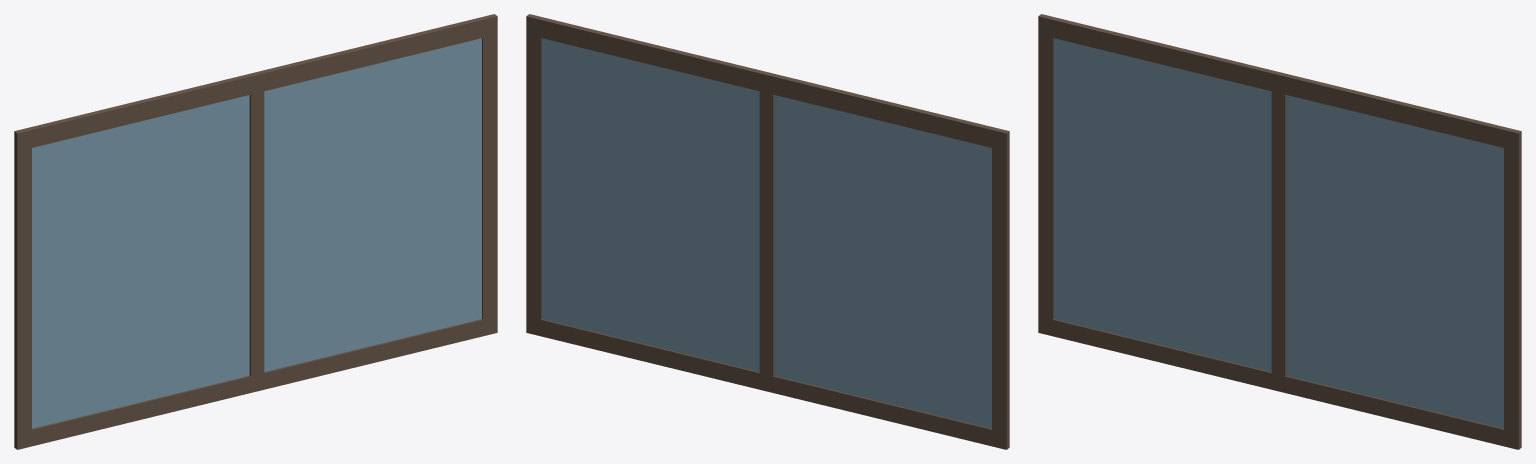
File: Window_22.fbx
The picture shows the model from 3 angles, left to right: view 1: azimuth 30°, elevation 25°; view 2: azimuth 150°, elevation 25°; view 3: azimuth 330°, elevation 25°; orthographic projection.
Visible parts, largest first — view 1: Window_22; view 2: Window_22; view 3: Window_22.
Boxes of the visible parts, box(x1,y1,x2,y2) form: Window_22: box(14, 14, 497, 449); Window_22: box(526, 14, 1009, 449); Window_22: box(1038, 14, 1521, 449).
Bounding box in the file's own units: 396 × 4.65 × 249.
